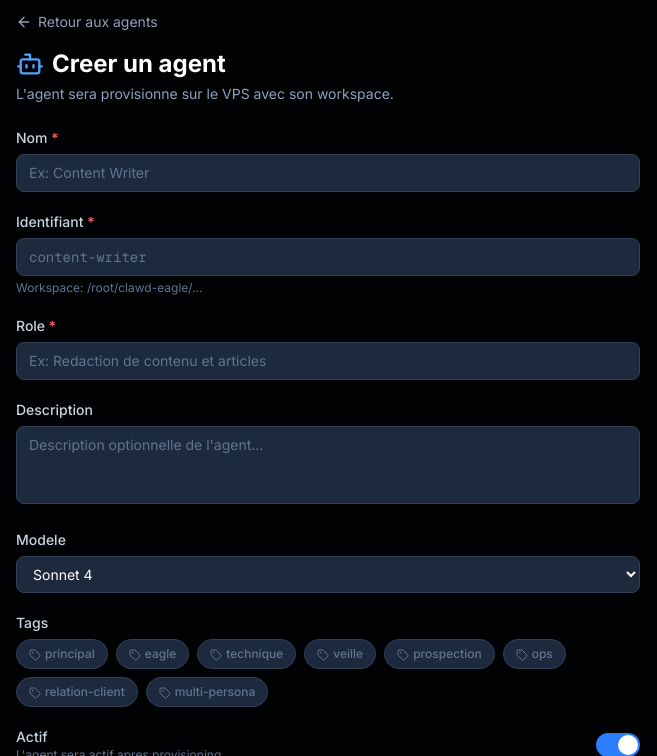
Test: NewAgentPage › shows error on failed submission
The width and height of the screenshot is (657, 756).
In the field with placeholder "Ex: Content Writer": point(328, 173) left=16, top=154, right=640, bottom=192, type "Existing"
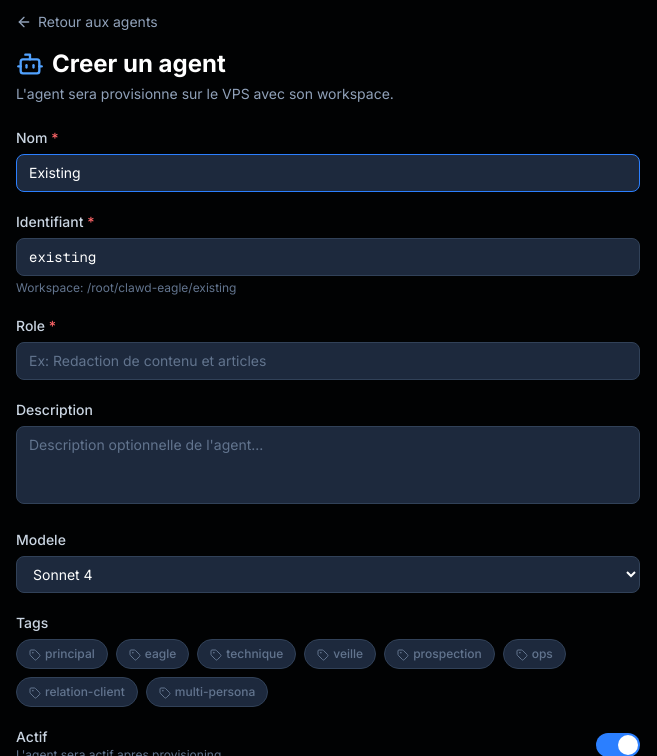
In the field with placeholder "Ex: Redaction de contenu et articles": point(328, 361) left=16, top=342, right=640, bottom=380, type "Role"
(page scrolled)
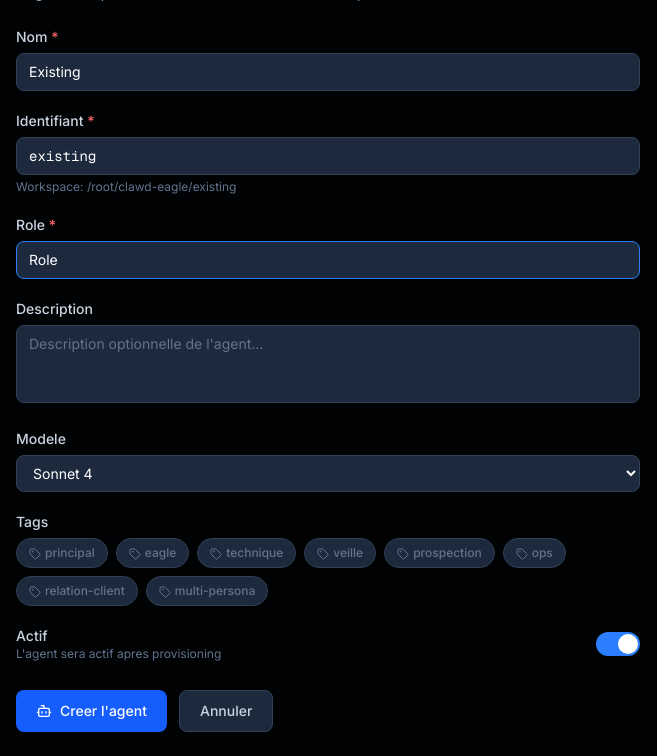
Click the button "Creer l'agent": point(92, 711) left=16, top=690, right=167, bottom=732
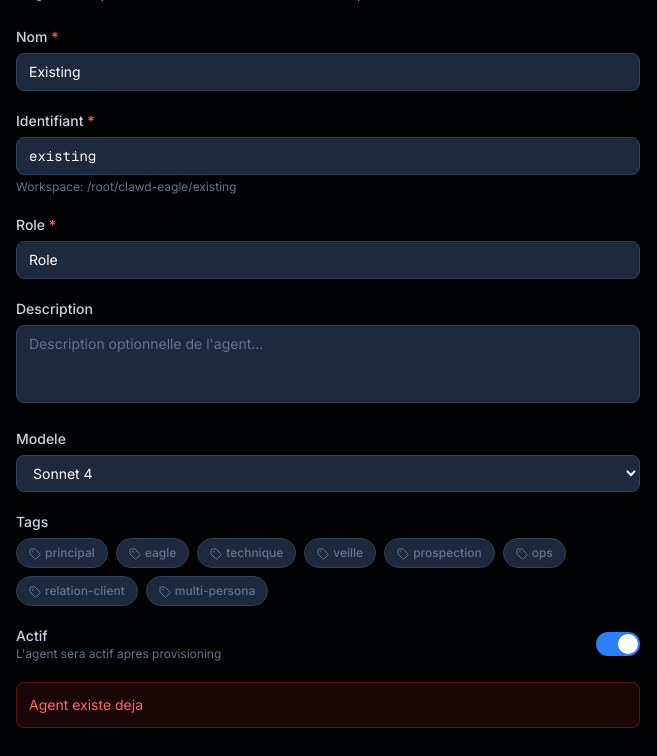
Now the text "Agent existe deja" is shown, box left=16, top=682, right=640, bottom=728
